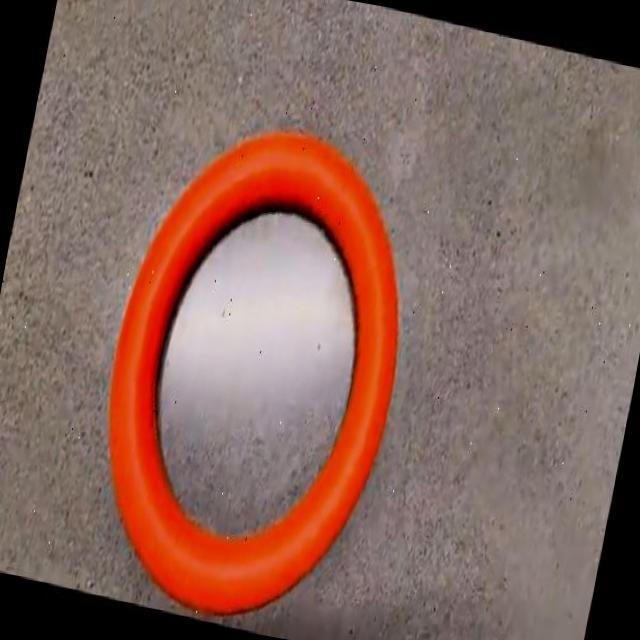note: (109, 132, 398, 613)
